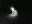person: (9, 8, 20, 19)
